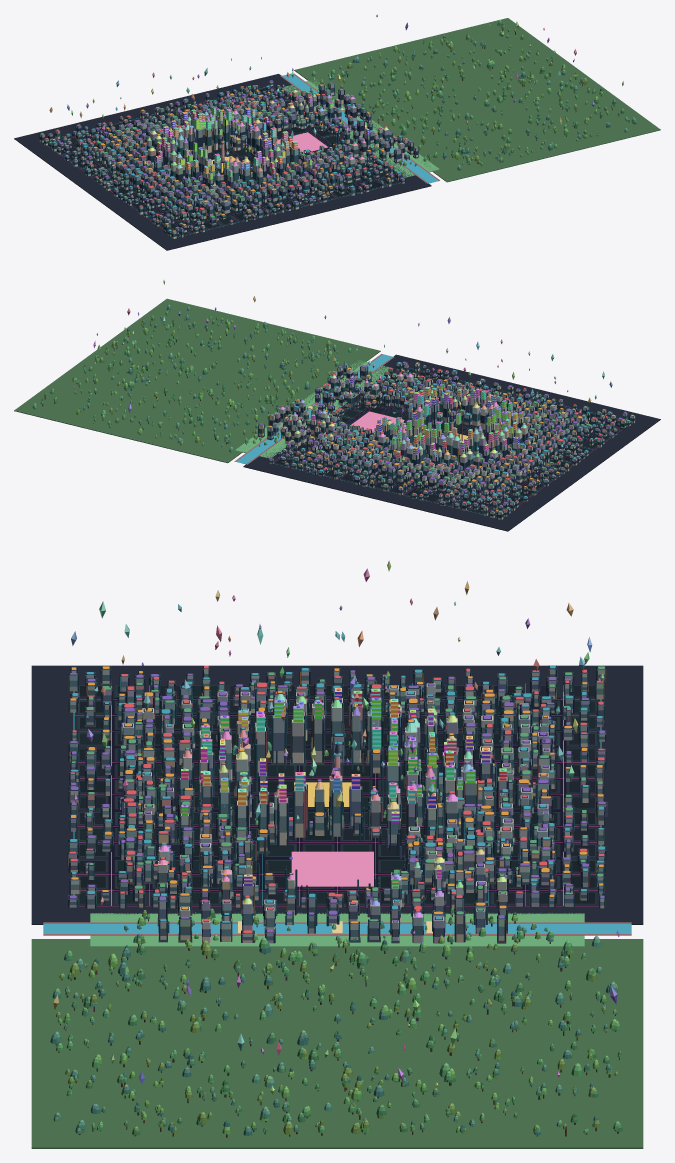
The model's file is Tokyo_Flat_Stylized_Anime_Modern_UprightTreesBuildings_CrystalsInverted.obj.
3 views of the same model, one above another, from view 1: azimuth 30°, elevation 25°; view 2: azimuth 150°, elevation 25°; view 3: azimuth 270°, elevation 25° (orthographic). The views are drawn at different scales.
Visible parts, largest first — view 1: ForestGround, CityGround, ParkStrip, River, OriginSpawnPad; view 2: ForestGround, CityGround, ParkStrip, River, OriginSpawnPad; view 3: ForestGround, CityGround, ParkStrip, River, OriginSpawnPad, RoadH_6.
Part boxes in pixels (x1,y1,x2,y2): ForestGround: [294, 18, 660, 182]; CityGround: [14, 74, 431, 250]; ParkStrip: [281, 79, 439, 177]; River: [282, 73, 438, 183]; OriginSpawnPad: [278, 132, 327, 153]; ForestGround: [14, 298, 380, 463]; CityGround: [243, 354, 660, 531]; ParkStrip: [235, 360, 393, 458]; River: [236, 354, 392, 464]; OriginSpawnPad: [351, 411, 404, 431]; ForestGround: [31, 939, 643, 1148]; CityGround: [31, 665, 643, 924]; ParkStrip: [90, 912, 584, 946]; River: [43, 924, 631, 933]; OriginSpawnPad: [291, 851, 373, 886]; RoadH_6: [108, 700, 114, 889].
Bounding box in the file's own units: 970 × 133 × 520.
